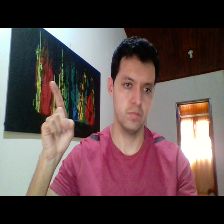2T: (34, 76, 80, 160)
